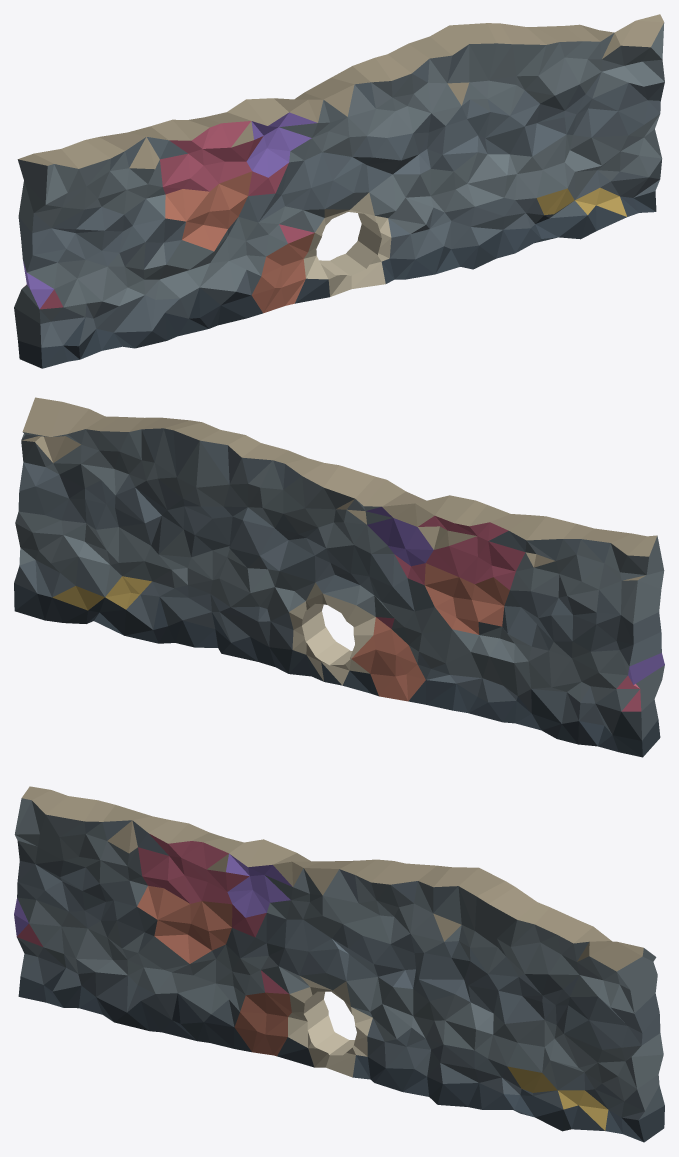
File: Reef_Gate_Low.glb
3 renders of one model, top to bottom at view 1: azimuth 30°, elevation 25°; view 2: azimuth 150°, elevation 25°; view 3: azimuth 330°, elevation 25°, orthographic.
Visible parts, largest first — view 1: Reef_Gate_Low; view 2: Reef_Gate_Low; view 3: Reef_Gate_Low.
Part boxes in pixels (bbox=[...]): Reef_Gate_Low: bbox=[14, 14, 664, 368]; Reef_Gate_Low: bbox=[14, 397, 664, 757]; Reef_Gate_Low: bbox=[14, 786, 664, 1142].
Bounding box in the file's own units: 47.06 × 15.97 × 4.51.
